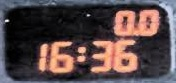-: (131, 29, 138, 34)
0: (113, 9, 132, 34), (138, 9, 157, 34)
1: (37, 41, 46, 70)
3: (89, 40, 112, 71)
6: (48, 41, 72, 72), (113, 39, 136, 71)
X: (75, 46, 85, 62)
